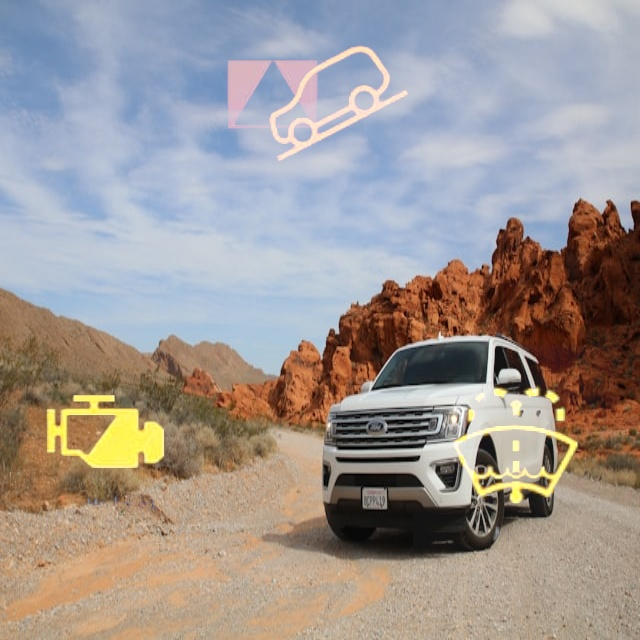symbol: (413, 345, 619, 551), (249, 16, 430, 197), (19, 347, 190, 518), (211, 33, 335, 157)
